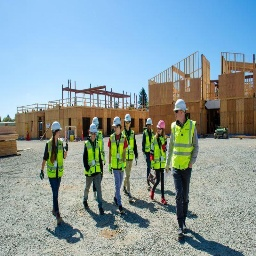helmet: (173, 98, 189, 116), (48, 122, 63, 135), (88, 122, 99, 138), (111, 117, 123, 128), (156, 120, 168, 131), (124, 112, 132, 124), (146, 118, 154, 127)
person: (169, 96, 202, 225), (42, 121, 68, 227), (108, 114, 130, 216), (82, 122, 102, 217), (122, 113, 141, 208), (151, 118, 170, 210), (143, 116, 159, 184)
vest: (169, 121, 199, 178), (44, 137, 67, 183), (111, 131, 127, 175), (85, 139, 101, 177), (152, 136, 168, 172), (124, 129, 135, 162), (142, 129, 154, 154)
